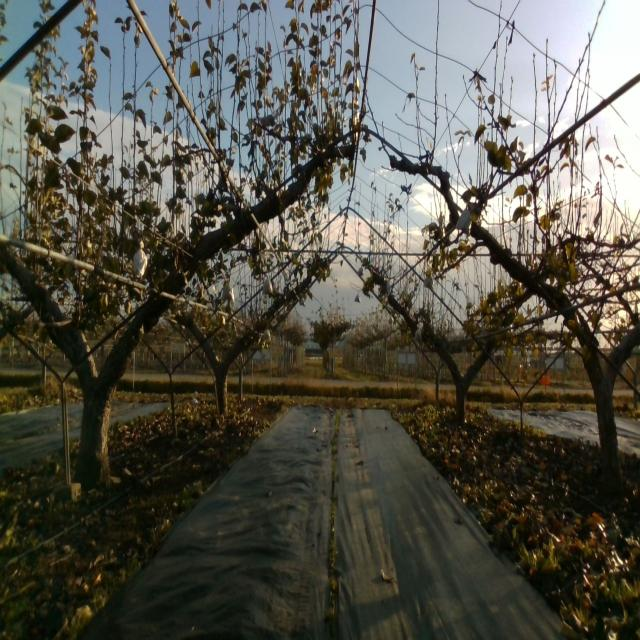pearbags: (132, 238, 149, 274), (456, 206, 472, 233), (221, 276, 236, 304), (261, 274, 274, 296)
